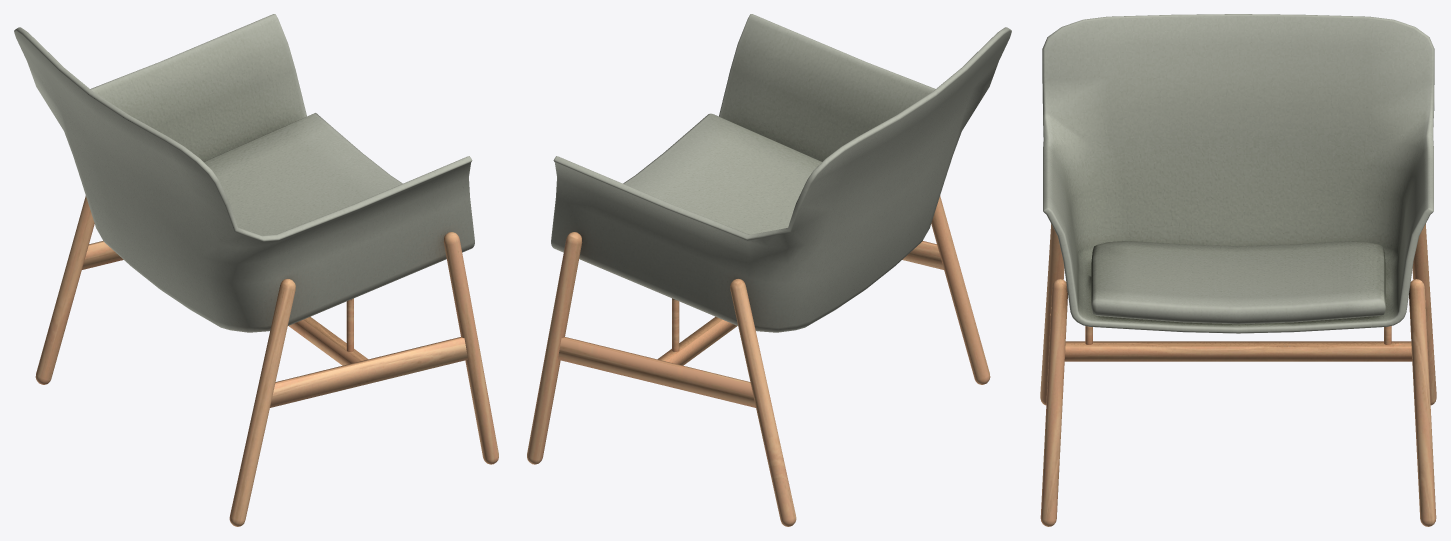
The model's file is Chair_3.fbx.
3 views of the same model, side by side, from view 1: azimuth 30°, elevation 25°; view 2: azimuth 150°, elevation 25°; view 3: azimuth 270°, elevation 25° (orthographic).
Visible parts, largest first — view 1: Cube.003; view 2: Cube.003; view 3: Cube.003.
Boxes of the visible parts, bbox=[...] form: Cube.003: bbox=[14, 14, 498, 526]; Cube.003: bbox=[527, 14, 1011, 526]; Cube.003: bbox=[1040, 14, 1436, 526].
Bounding box in the file's own units: 65 × 75 × 73.
Materials: 1 (1 with a texture image).
